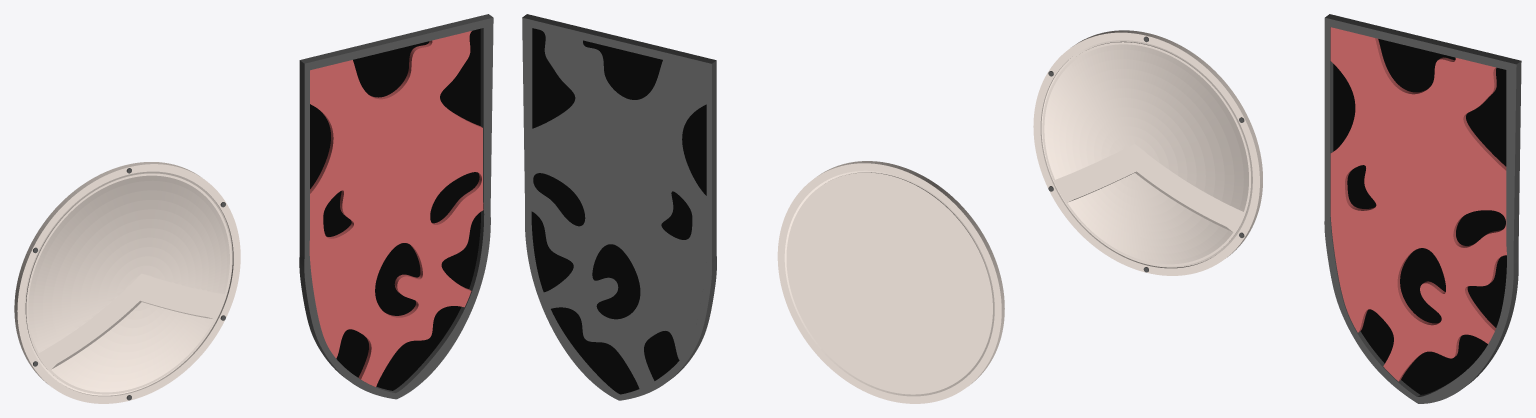
The model's file is escudos.glb.
3 views of the same model, side by side, from view 1: azimuth 30°, elevation 25°; view 2: azimuth 150°, elevation 25°; view 3: azimuth 330°, elevation 25° (orthographic).
Parts seen in each view (by area): view 1: Node1; view 2: Node1; view 3: Node1.
Boxes of the visible parts, box(x1,y1,x2,y2) form: Node1: box(14, 14, 493, 403); Node1: box(522, 14, 1004, 403); Node1: box(1033, 14, 1521, 403).
Size of the model in its own units: 448 by 322 by 28.01.
